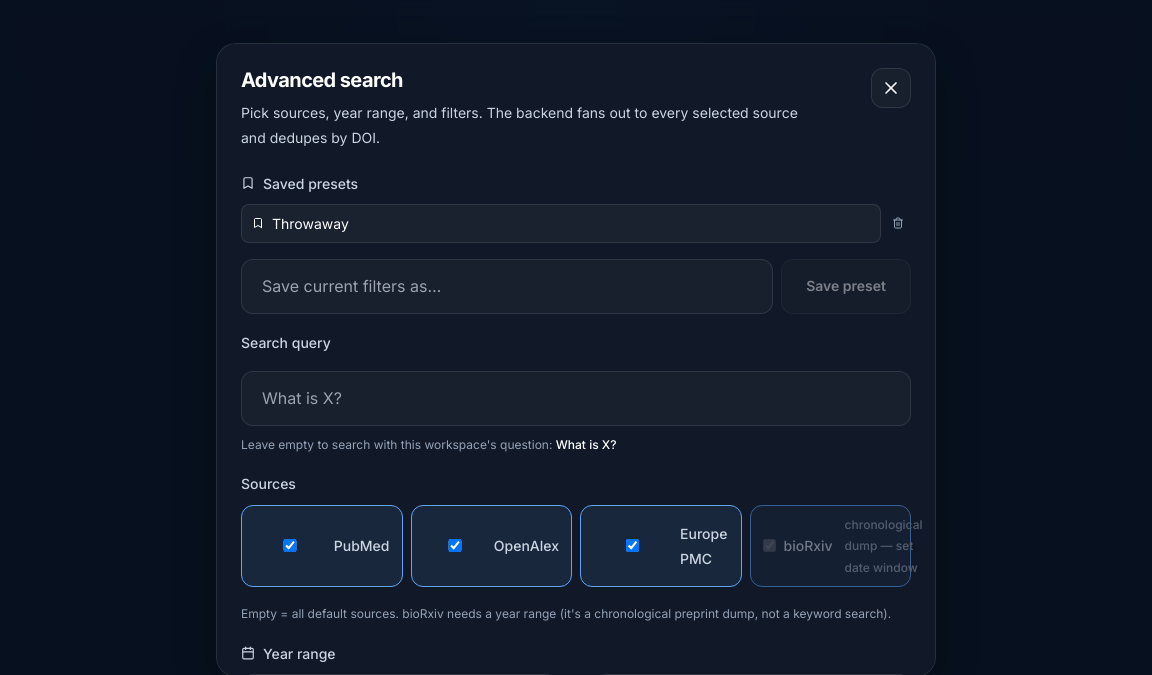
Test case: AdvancedSearchModal › presets › deletes a preset when the trash icon is clicked
Click the button named "Delete preset Throwaway" at (898, 223), box [885,210,911,236]
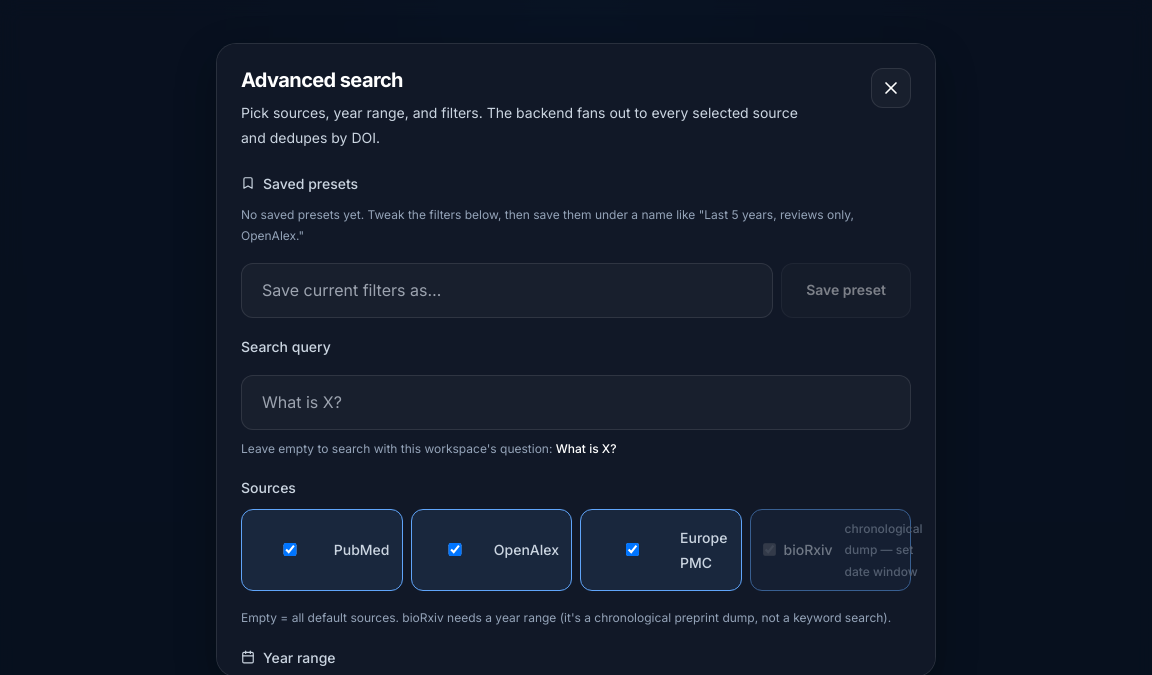
Now the button "Throwaway" is gone
Now the text "No saved presets yet" is shown, box [241,207,854,243]
